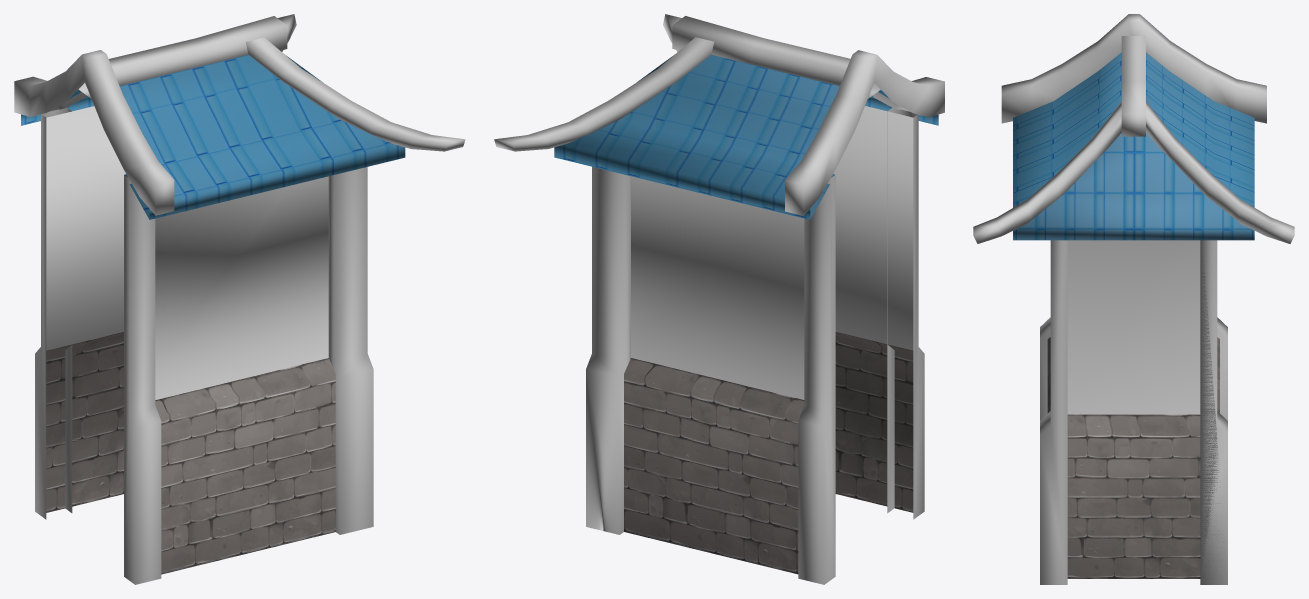
The model's file is GardenWall_4.fbx.
The picture shows the model from 3 angles, left to right: view 1: azimuth 30°, elevation 25°; view 2: azimuth 150°, elevation 25°; view 3: azimuth 270°, elevation 25°; orthographic projection. The views are drawn at different scales.
Visible parts, largest first — view 1: GardenWall_4; view 2: GardenWall_4; view 3: GardenWall_4.
Boxes of the visible parts, bbox=[...] form: GardenWall_4: bbox=[14, 14, 465, 584]; GardenWall_4: bbox=[494, 14, 944, 584]; GardenWall_4: bbox=[973, 14, 1294, 584].
Bounding box in the file's own units: 1.77 × 2.82 × 1.78.
